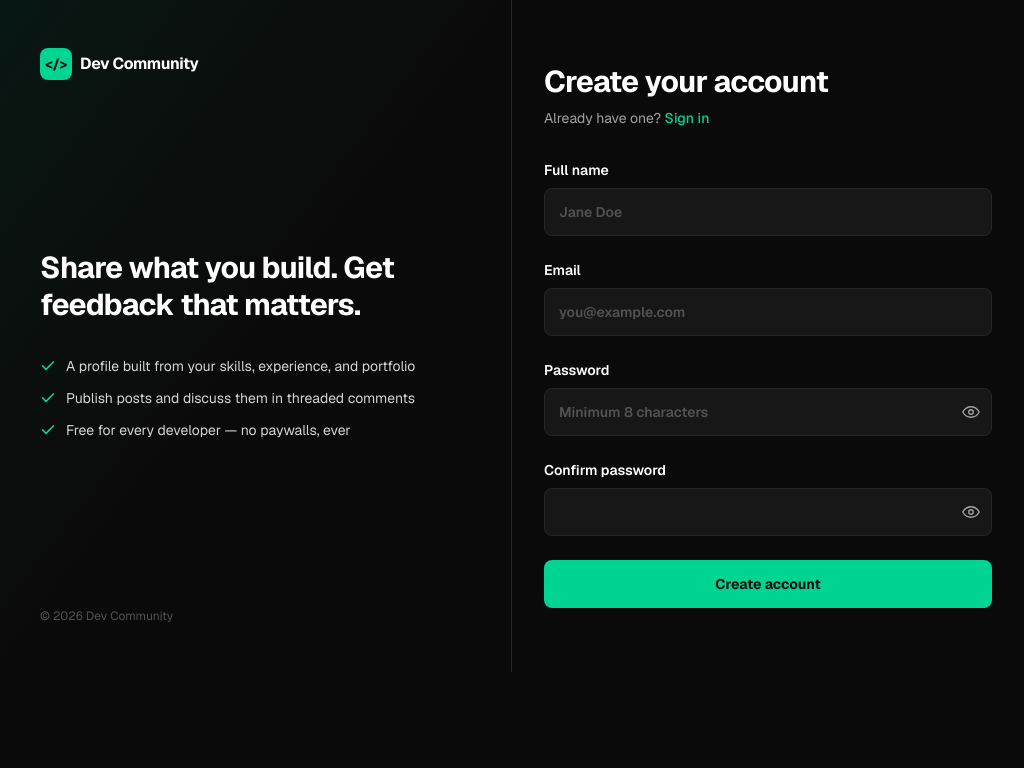
Test: SignupForm › shows a field error for each empty field and does not submit
Step 1. Click the button "Create account" → (768, 584), box x1=544 y1=560 x2=992 y2=608
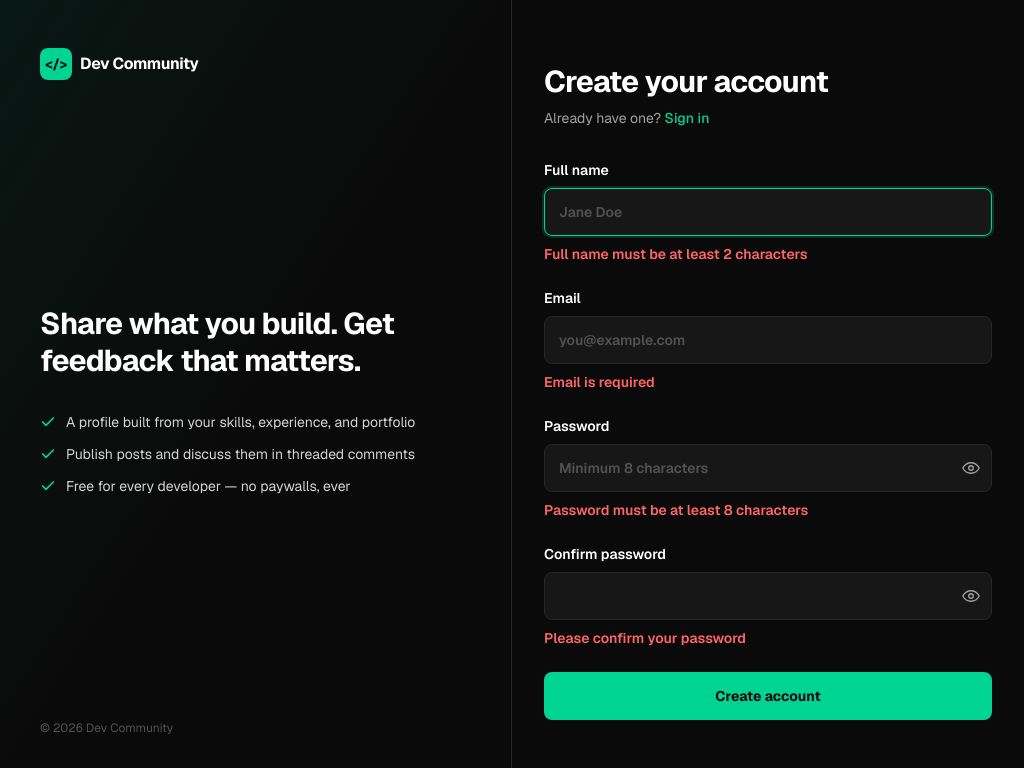
Check: the text "Full name must be at least 2 characters" is shown, box x1=544 y1=245 x2=807 y2=263
Check: the text "Email is required" is shown, box x1=544 y1=373 x2=655 y2=391
Check: the text "Password must be at least 8 characters" is shown, box x1=544 y1=501 x2=808 y2=519
